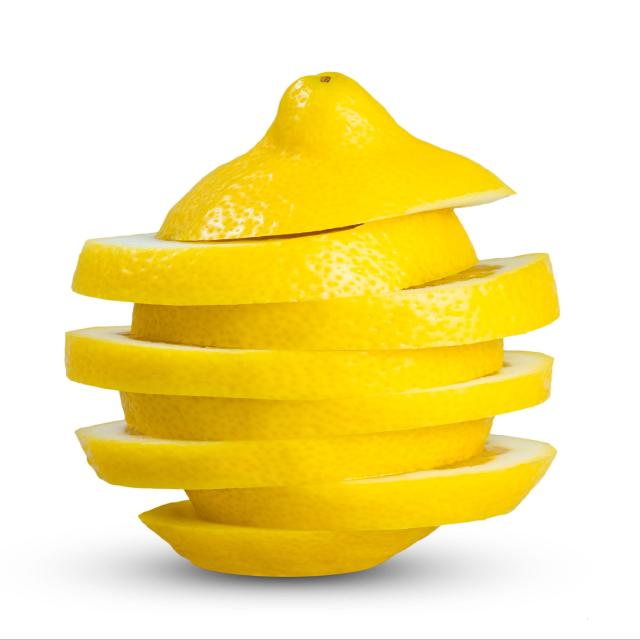lemon: (53, 65, 566, 590)
